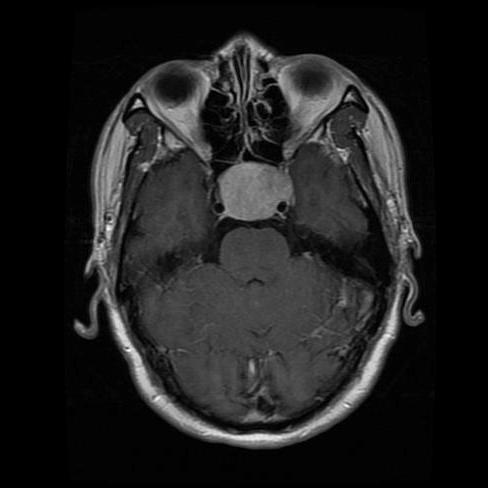Tumour-Pituitary: (220, 166, 297, 225)
